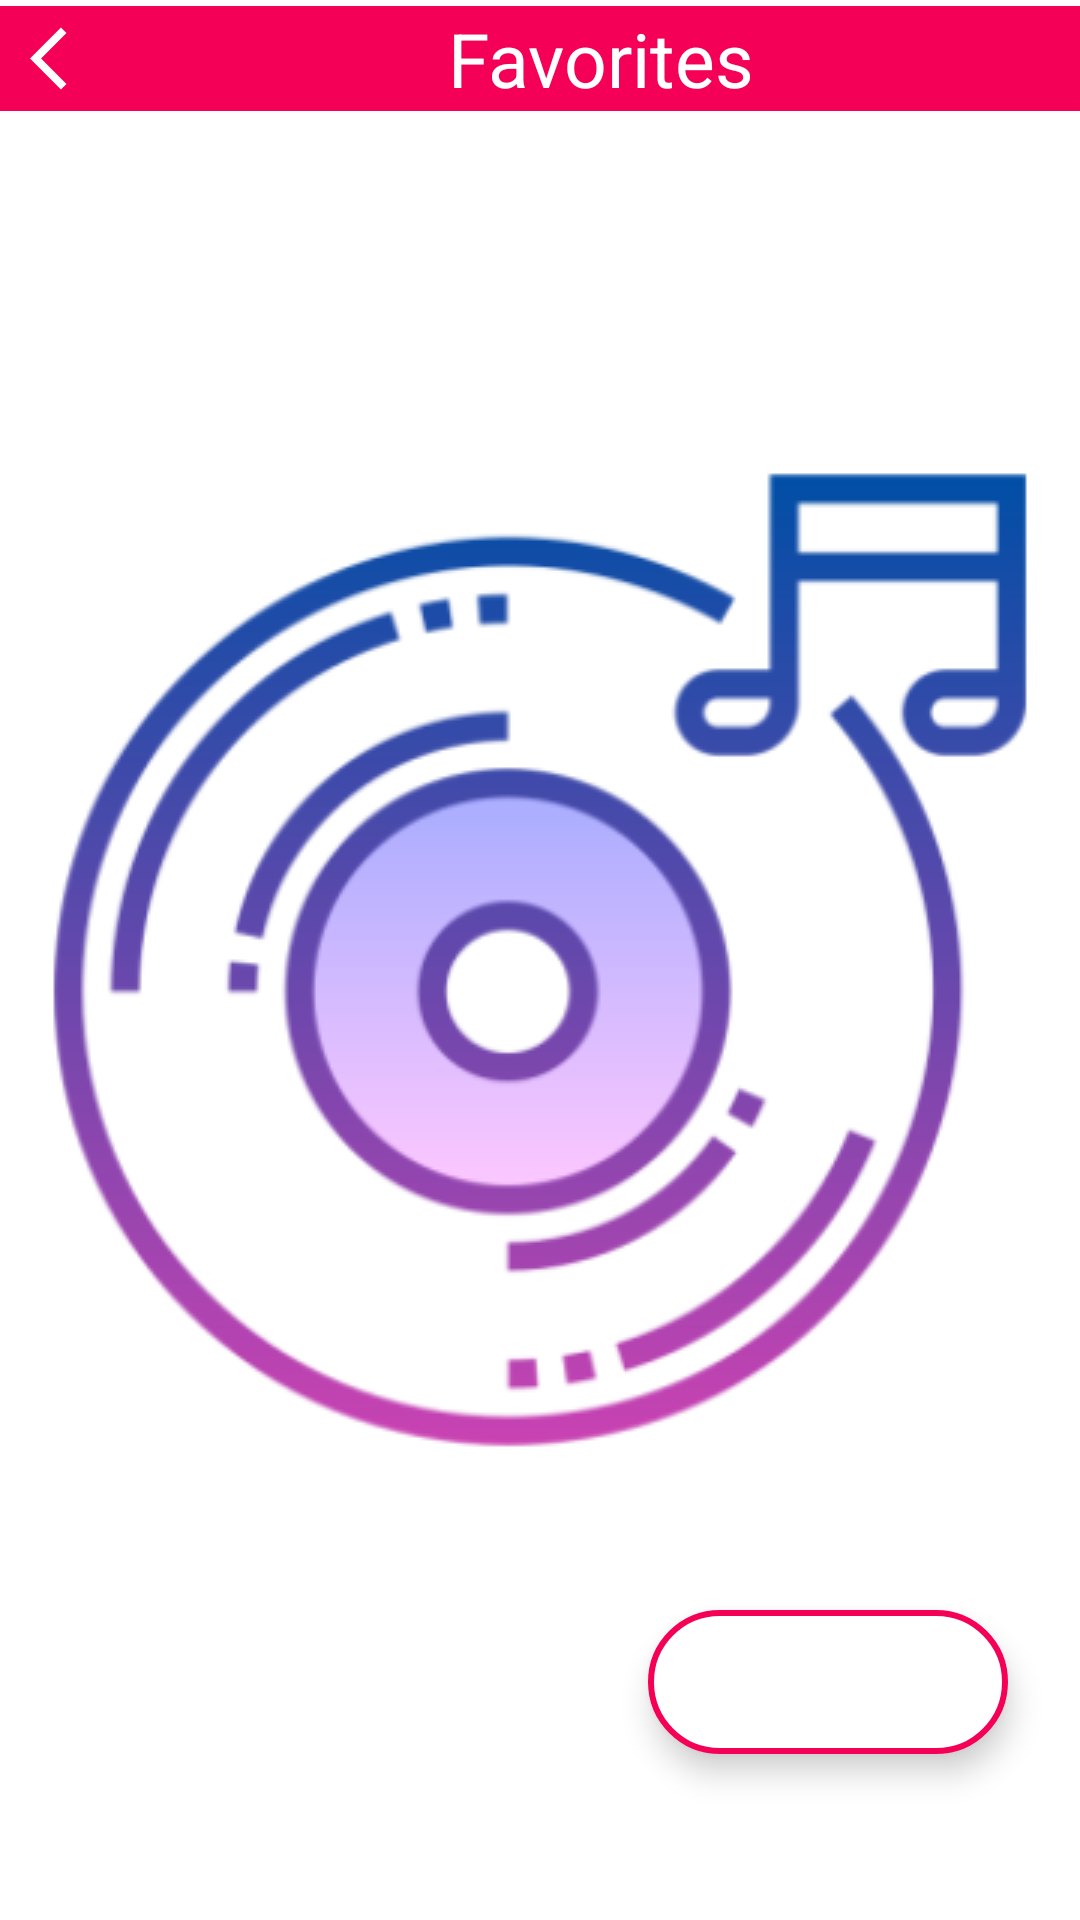

Icon click points for this 1080w x 1920h phone screenshot, format point (x, y):
Back: point (48, 58)
